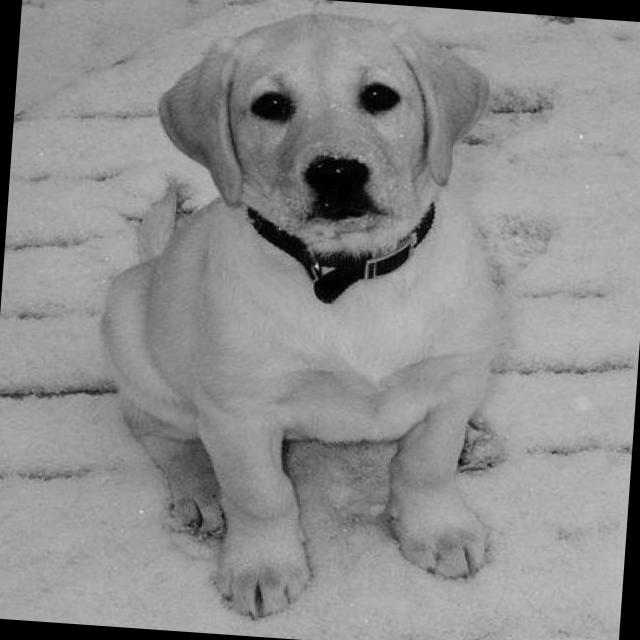sitting: (61, 0, 561, 639)
